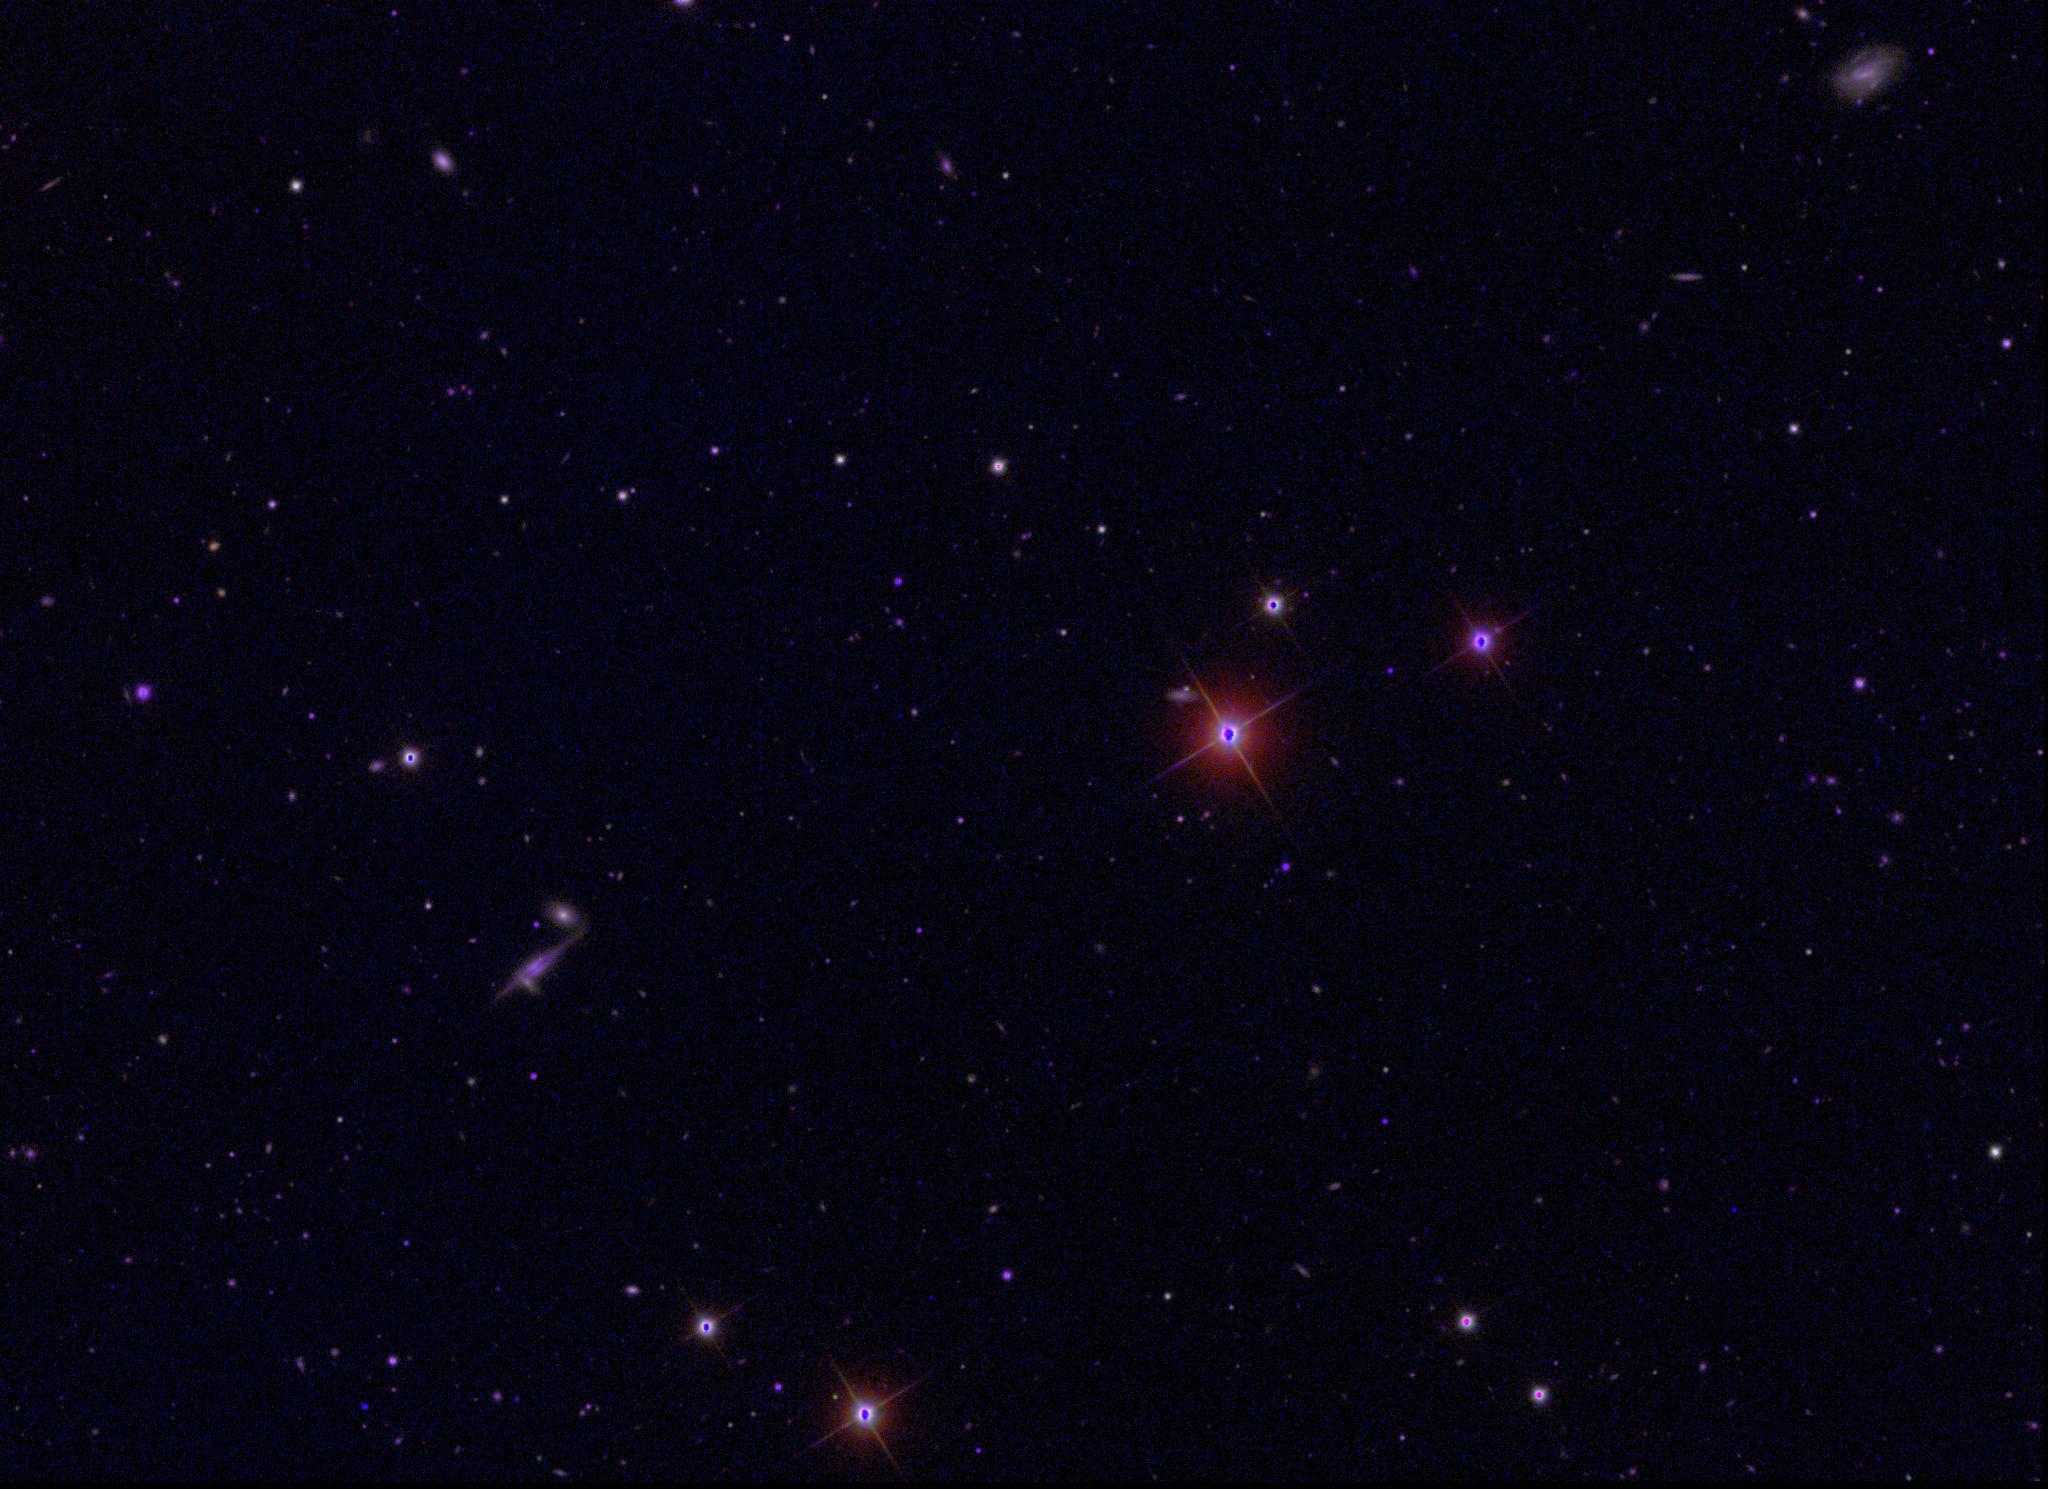L: (358, 1400, 370, 1414)
